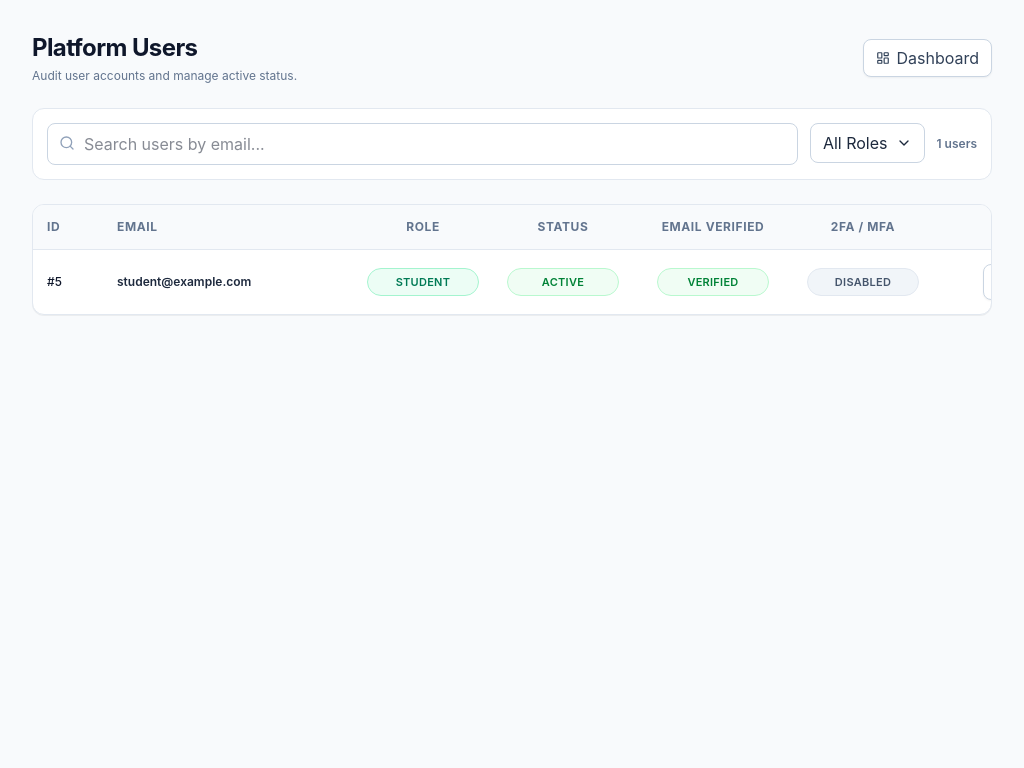
Test: AdminUsersPage — UserDetailDrawer › clicking a user row fetches detail and opens the slide-over drawer
The image size is (1024, 768).
Click the row to open the drawer
Click the text "student@example.com".
click(228, 282)  # box left=103, top=250, right=353, bottom=314
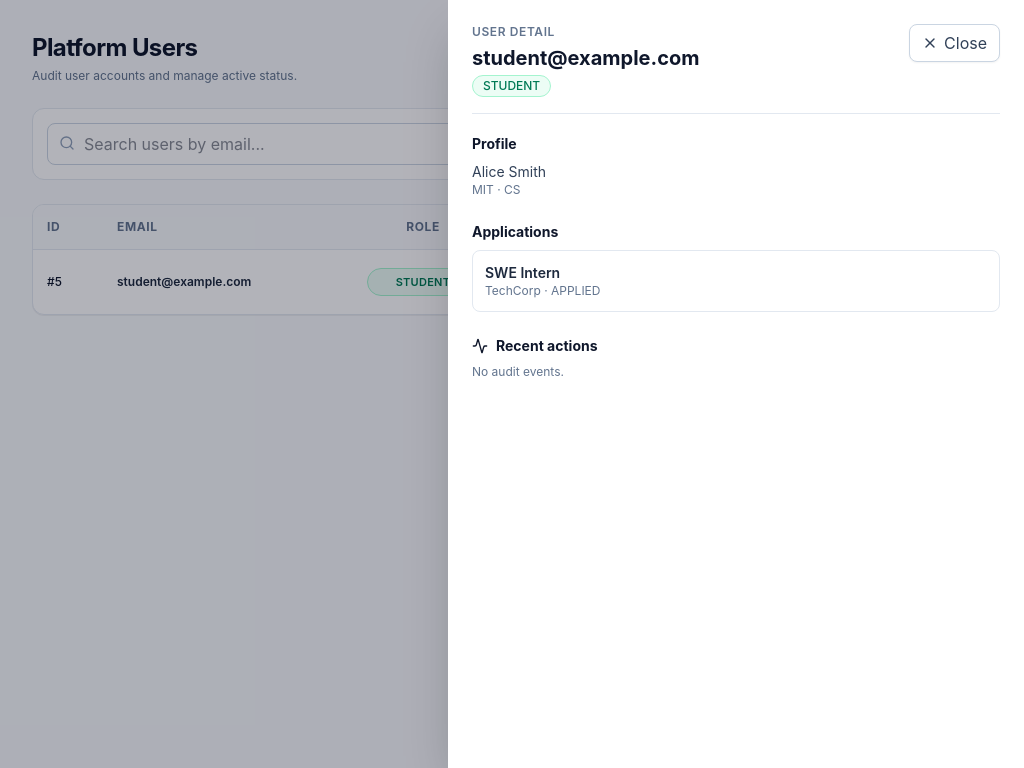
Expected: the text "Alice Smith" is shown, left=472, top=163, right=546, bottom=180
Expected: the text "SWE Intern" is shown, left=485, top=264, right=560, bottom=281
Expected: the text "TechCorp · APPLIED" is shown, left=485, top=283, right=600, bottom=298
